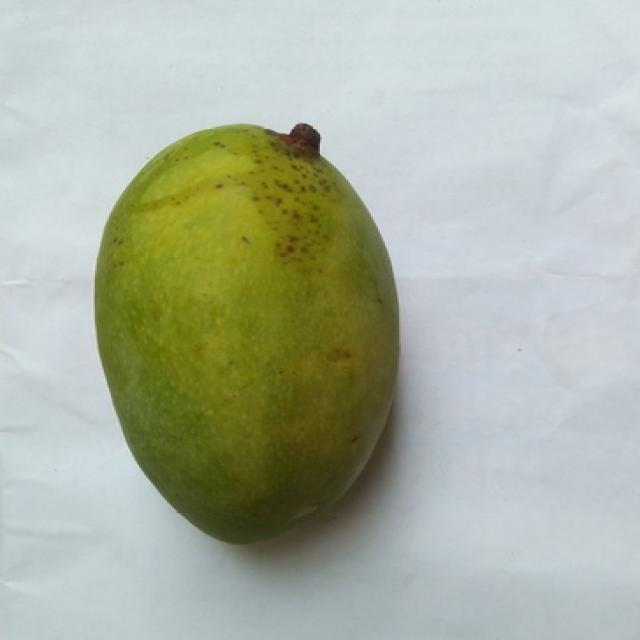Mango: (97, 125, 397, 542)
